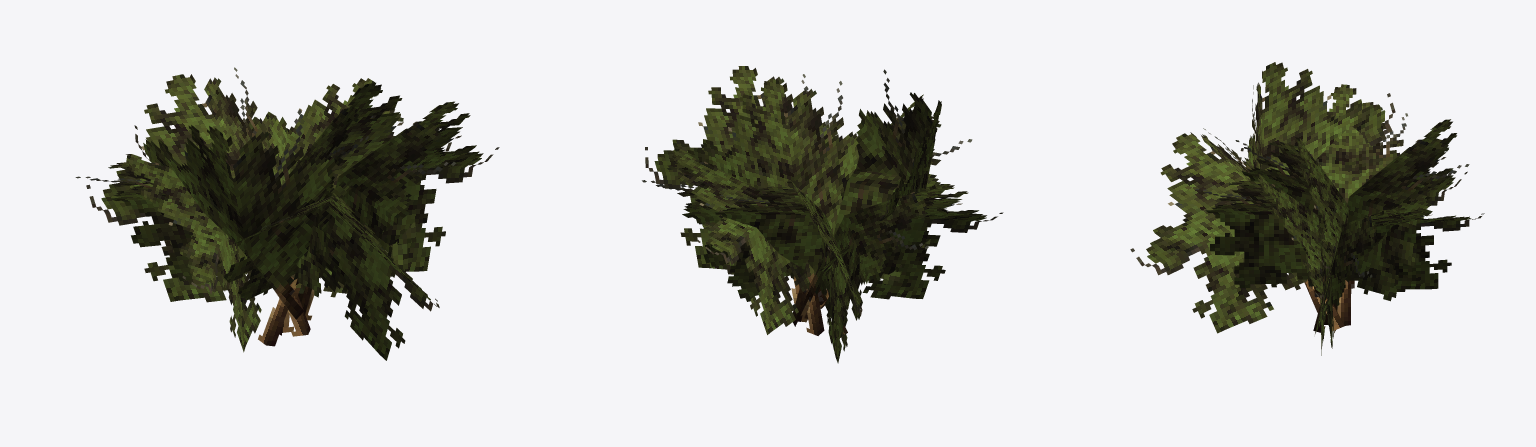
Rendered from sbushreg_1.dae.
3 renders of one model, left to right at view 1: azimuth 30°, elevation 25°; view 2: azimuth 150°, elevation 25°; view 3: azimuth 270°, elevation 25°, orthographic. The views are drawn at different scales.
Parts seen in each view (by area): view 1: sbushreg_1; view 2: sbushreg_1; view 3: sbushreg_1.
Part boxes in pixels (x1,y1,x2,y2): sbushreg_1: [75, 67, 499, 360]; sbushreg_1: [642, 66, 1003, 363]; sbushreg_1: [1130, 62, 1484, 355].
Size of the model in its own units: 3.17 by 3.05 by 2.58.
1 material, 1 textured.
